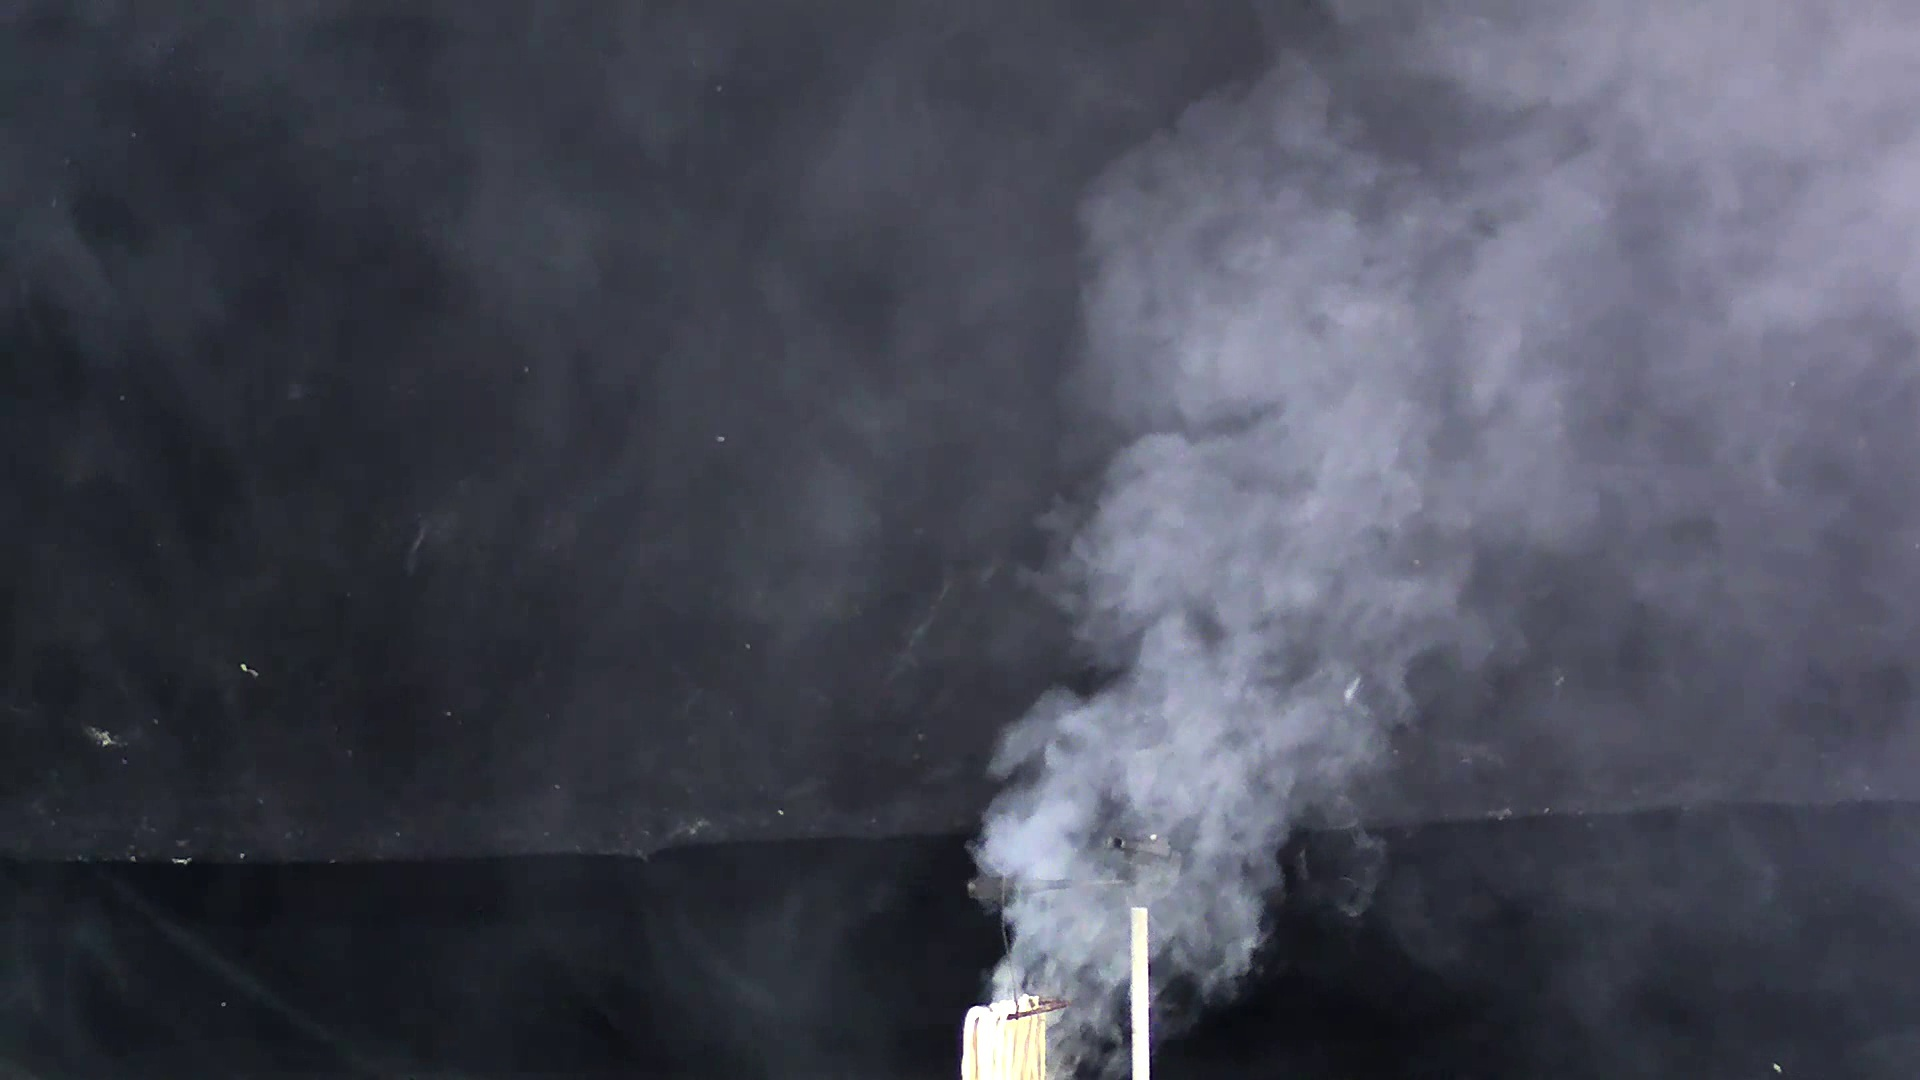smoke: (973, 73, 1619, 1047)
